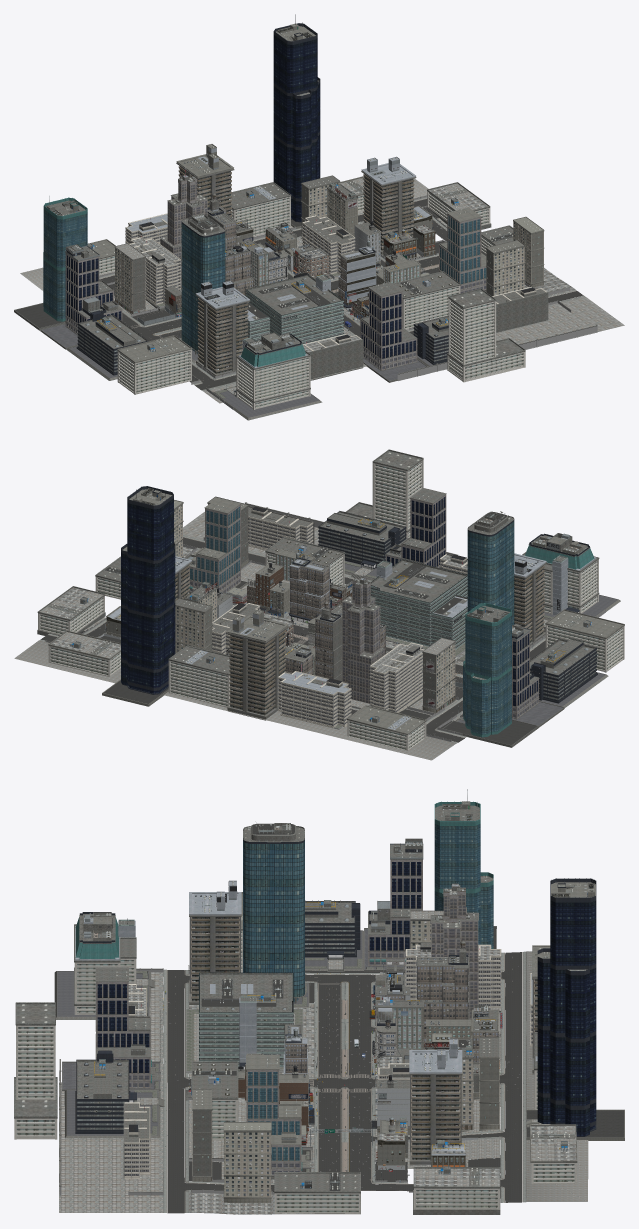
The model's file is full_gameready_city_buildings-compressed-compressed (1).glb.
3 views of the same model, one above another, from view 1: azimuth 30°, elevation 25°; view 2: azimuth 150°, elevation 25°; view 3: azimuth 270°, elevation 25° (orthographic). The views are drawn at different scales.
Parts seen in each view (by area): view 1: Object_20, Object_112, Object_9, Object_183, Object_7, Object_145, Object_151, Object_206, Object_102, Object_138, Object_174, Object_160 (+16 smaller); view 2: Object_20, Object_112, Object_9, Object_183, Object_7, Object_145, Object_177, Object_151, Object_206, Object_174, Object_136, Object_102 (+16 smaller); view 3: Object_20, Object_102, Object_206, Object_9, Object_183, Object_112, Object_145, Object_7, Object_151, Object_188, Object_136, Object_174 (+22 smaller).
Part boxes in pixels (<box>): Object_20: <box>14,176,597,420</box>; Object_112: <box>99,191,525,409</box>; Object_9: <box>66,35,415,358</box>; Object_183: <box>43,209,486,353</box>; Object_7: <box>65,175,486,370</box>; Object_145: <box>87,23,544,406</box>; Object_151: <box>176,162,416,375</box>; Object_206: <box>20,178,624,403</box>; Object_102: <box>15,199,583,390</box>; Object_138: <box>85,147,430,398</box>; Object_174: <box>78,183,448,371</box>; Object_160: <box>115,182,543,310</box>; Object_20: <box>37,449,620,747</box>; Object_112: <box>38,460,624,750</box>; Object_9: <box>121,497,537,706</box>; Object_183: <box>190,507,514,734</box>; Object_7: <box>189,494,538,718</box>; Object_145: <box>48,488,624,734</box>; Object_177: <box>212,509,467,728</box>; Object_151: <box>175,561,546,720</box>; Object_206: <box>14,512,547,760</box>; Object_174: <box>191,520,595,699</box>; Object_136: <box>105,486,597,703</box>; Object_102: <box>41,512,545,745</box>; Object_20: <box>14,801,574,1214</box>; Object_102: <box>167,824,624,1213</box>; Object_206: <box>59,911,588,1212</box>; Object_9: <box>97,862,596,1136</box>; Object_183: <box>243,824,493,1160</box>; Object_112: <box>14,930,576,1214</box>; Object_145: <box>83,882,624,1203</box>; Object_7: <box>96,860,478,1175</box>; Object_151: <box>189,914,537,1165</box>; Object_188: <box>163,951,526,1212</box>; Object_136: <box>75,826,596,1136</box>; Object_174: <box>77,900,472,1148</box>.
Bounding box in the file's own units: 167 × 70.39 × 151.
Materials: 100 (99 with a texture image).
